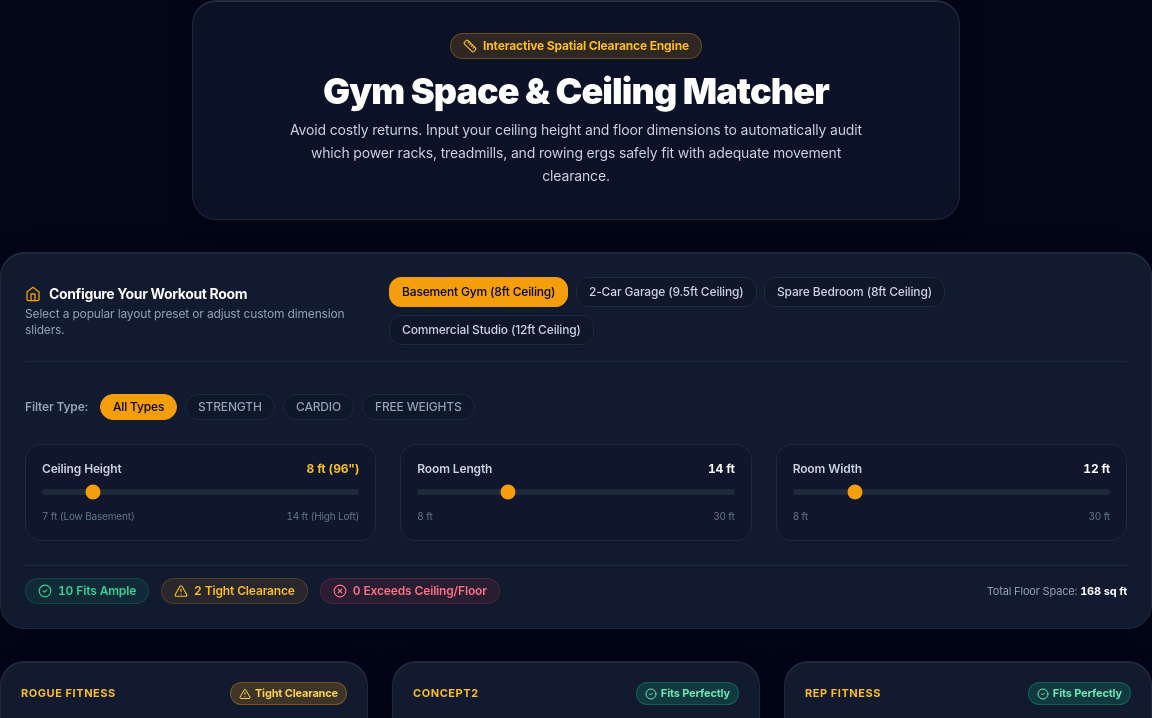
Test: GymSpaceMatcher & Clearance Engine (Tier 2) › should update room dimensions when switching presets
Click on 2-Car Garage preset
Click the button "2-Car Garage (9.5ft Ceiling)" at (666, 292), box top-left (576, 277), bottom-right (756, 307)
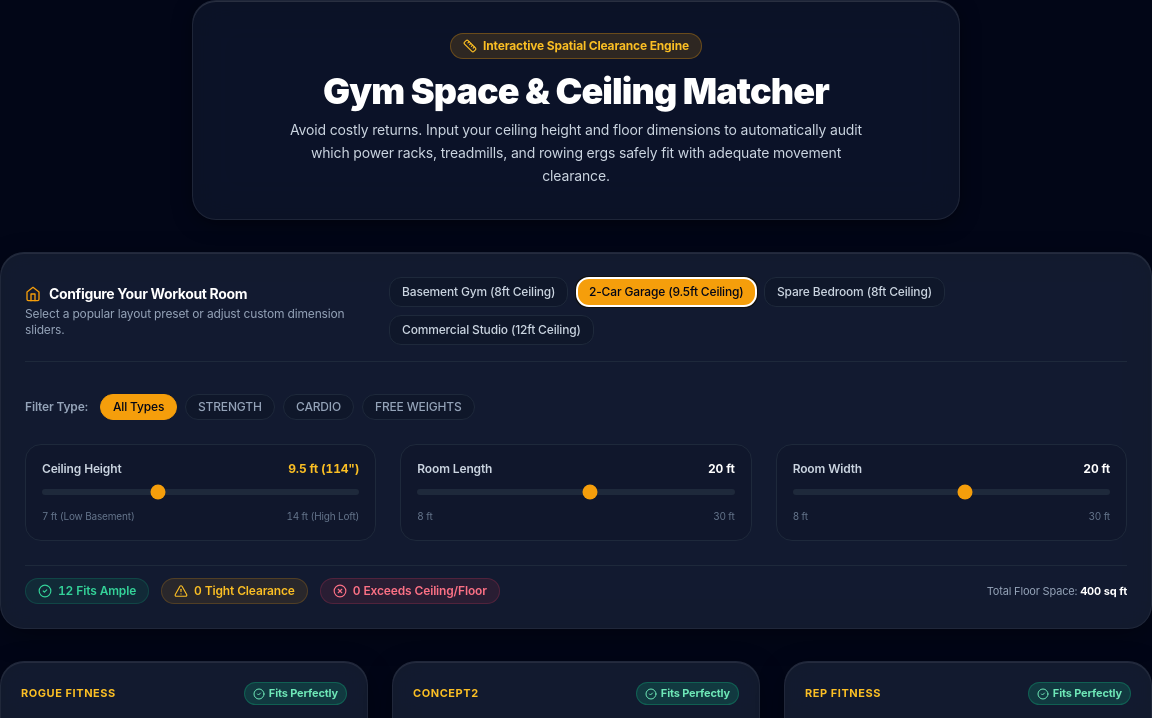
Now the text with test id "val-ceiling-height" reads "9.5 ft (114\")", box top-left (288, 461), bottom-right (359, 477)
